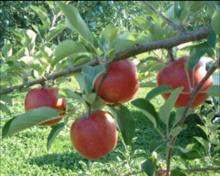apple: (156, 55, 215, 110), (69, 109, 118, 162), (94, 58, 139, 104), (24, 86, 65, 126)
